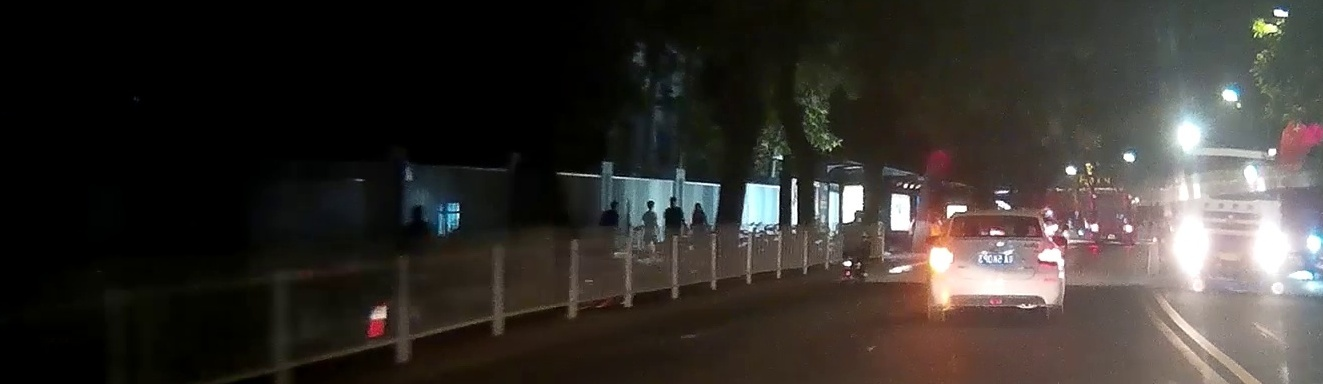L_light: (929, 248, 956, 267)
R_light: (1037, 249, 1061, 265)
T_light: (990, 231, 1006, 236)
night-left: (928, 208, 1064, 323)
